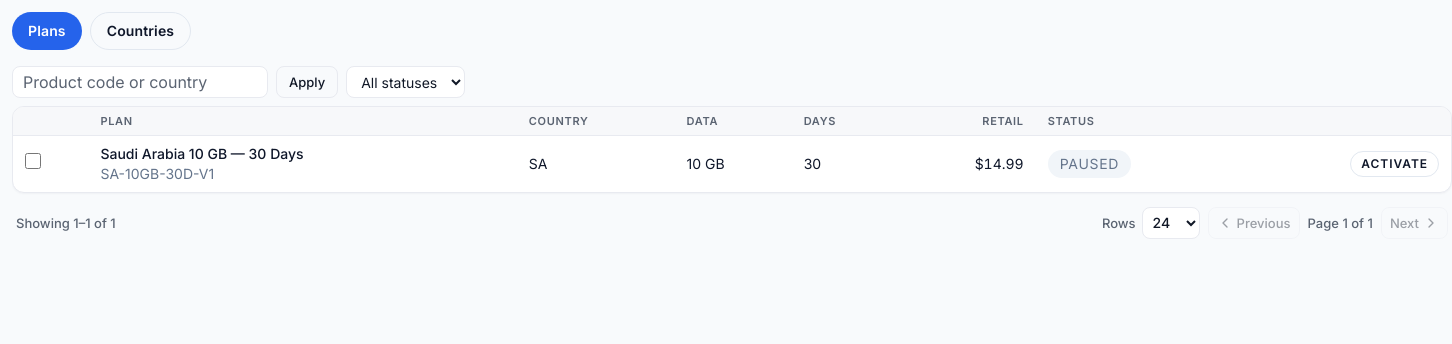
Test: bulk results › reports successes from the plans key
expect the 1st text "Saudi Arabia 10 GB — 30 Days" is shown: met, box [100,144,304,162]
Click the checkbox named "select sa-10gb" at [33, 161], box [25,153,41,169]
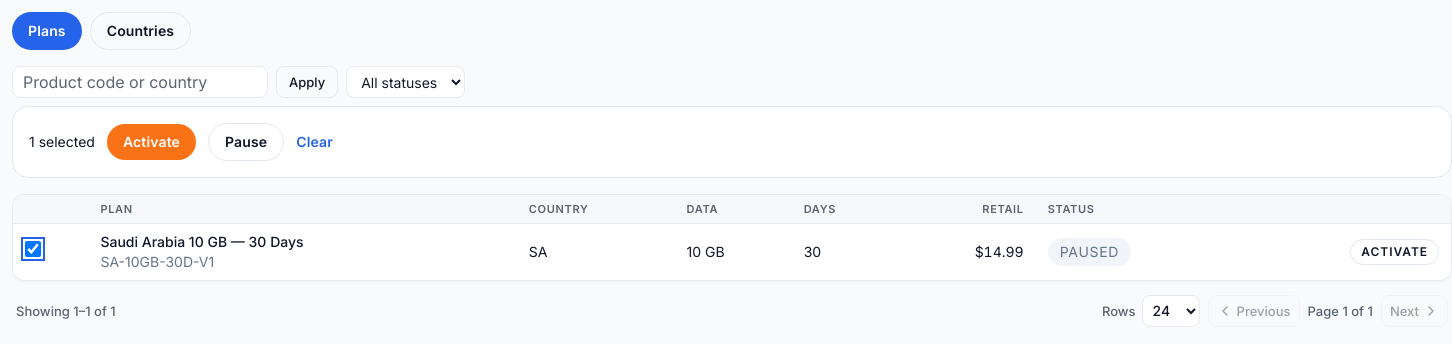
Click the 2nd button named "activate" at [151, 142], box [107,124,196,160]
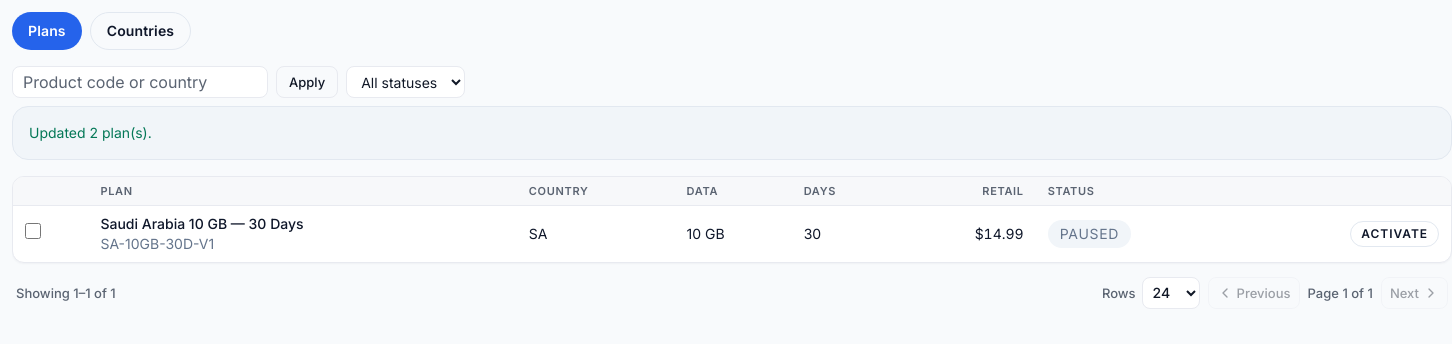
expect the 1st text "updated 2 plan" is shown: met, box [29,124,152,141]
